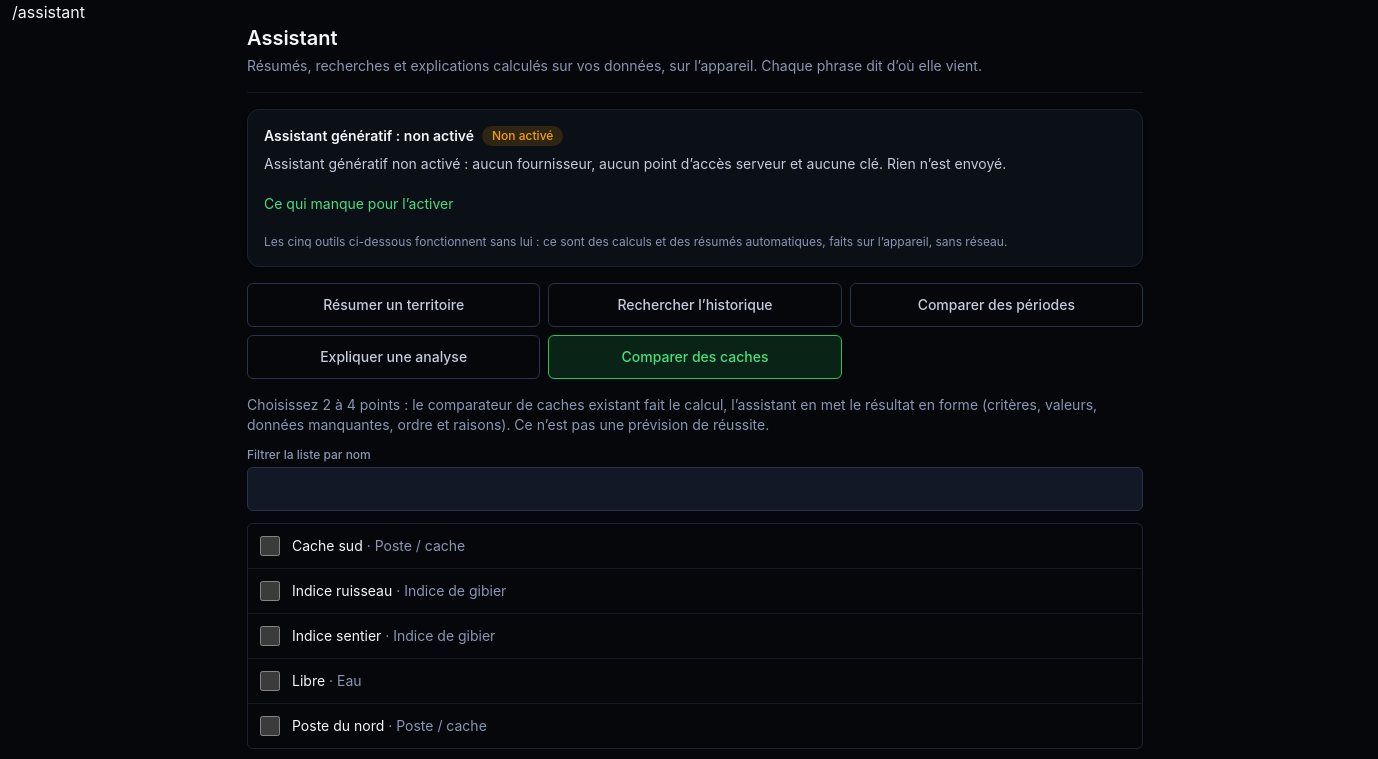
Test: AssistantPage — comparer des caches (réutilise le comparateur) › met en forme le résultat de compareCaches, sans second moteur
The width and height of the screenshot is (1378, 759).
Click the checkbox labelled "Poste du nord · Poste / cache" at x=270, y=726, box [260,716,280,736]
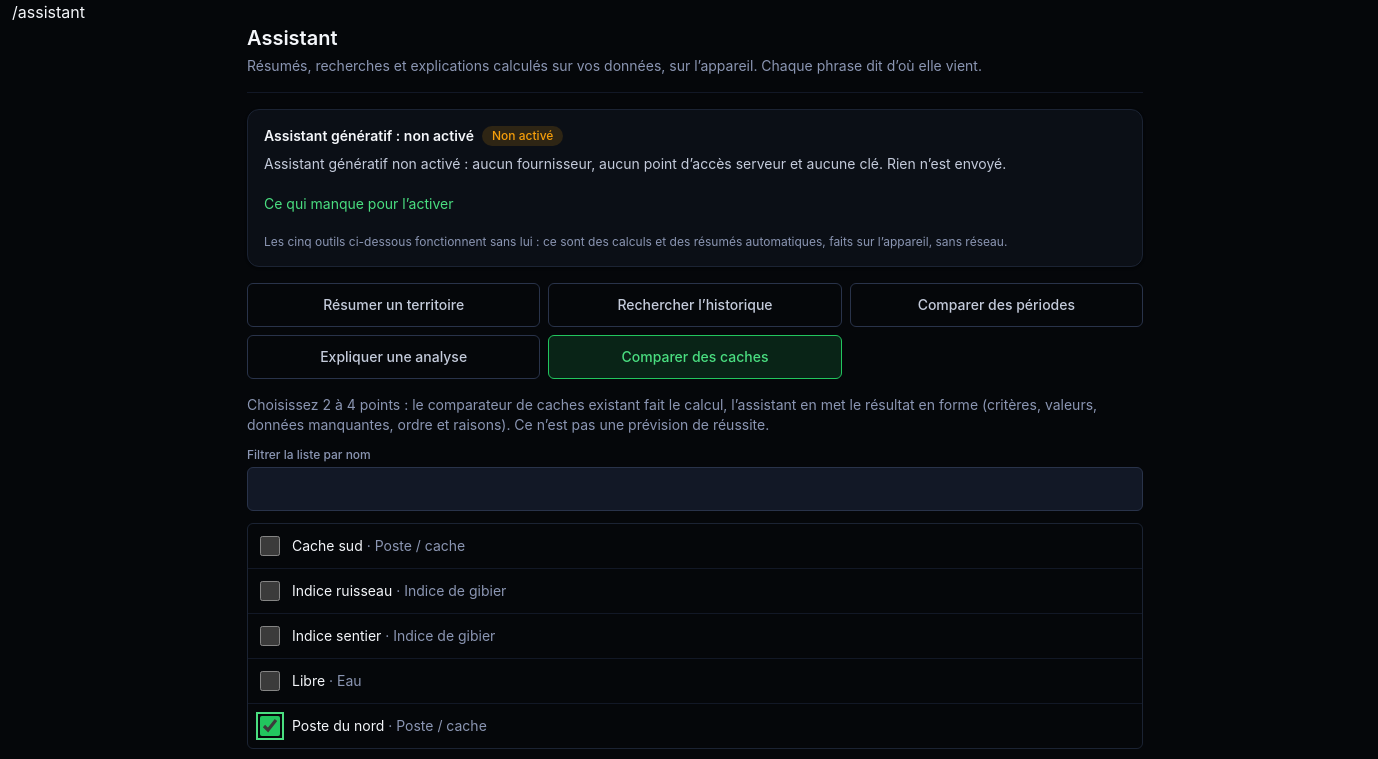
Click the checkbox labelled "Cache sud · Poste / cache" at x=270, y=546, box [260,536,280,556]
(page scrolled)
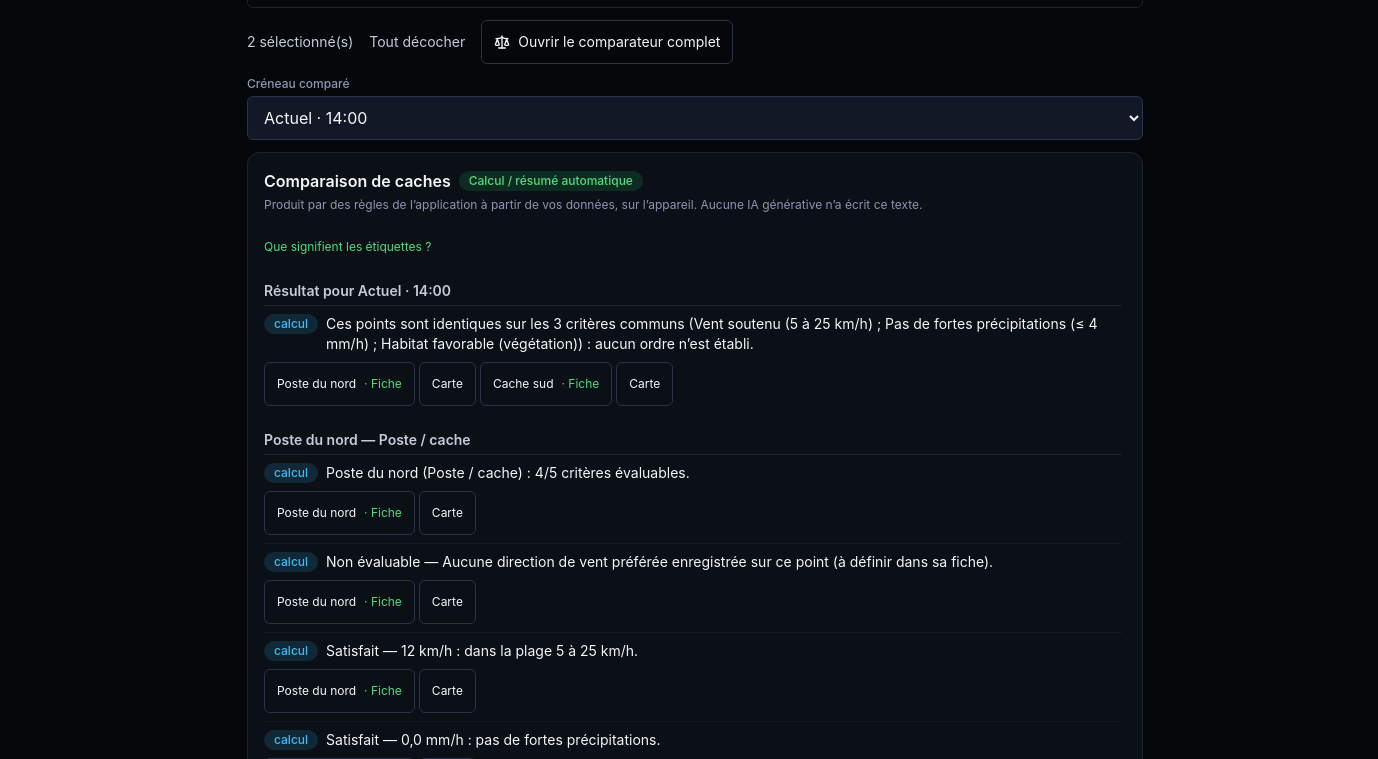
Check: the button with aria-label "Ouvrir la fiche du point de repère" is shown, box [264,362,415,406]
